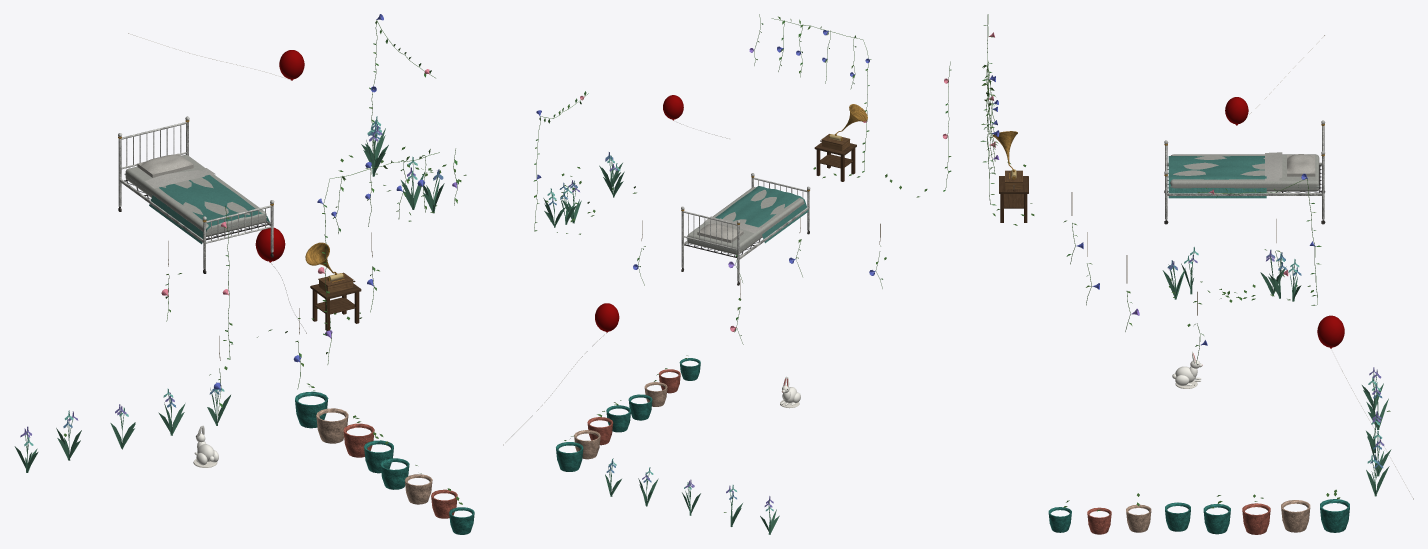
File: dream-petals.glb
The picture shows the model from 3 angles, left to right: view 1: azimuth 30°, elevation 25°; view 2: azimuth 150°, elevation 25°; view 3: azimuth 270°, elevation 25°; orthographic projection. The views are drawn at different scales.
Parts seen in each view (by area): view 1: UD_Dream_HospitalBed, UD_Dream_Flowers_ShopFloor, UD_Dream_Phonograph, UD_Dream_Flowers_Tokonoma, UD_Dream_Flowers_Window, UD_Dream_Balloon_Stair, UD_Dream_Balloon_UpperCeiling, UD_Dream_Flowers_ShopHanging, UD_Dream_RabbitStatue; view 2: UD_Dream_HospitalBed, UD_Dream_Flowers_ShopFloor, UD_Dream_Flowers_Tokonoma, UD_Dream_Phonograph, UD_Dream_Flowers_Window, UD_Dream_Balloon_Stair; view 3: UD_Dream_HospitalBed, UD_Dream_Flowers_ShopFloor, UD_Dream_Flowers_Tokonoma, UD_Dream_Phonograph, UD_Dream_Flowers_Window, UD_Dream_Balloon_Stair, UD_Dream_Flowers_ShopHanging, UD_Dream_RabbitStatue, UD_Dream_Balloon_UpperCeiling.
Part boxes in pixels (x1,y1,x2,y2): UD_Dream_HospitalBed: (118, 116, 274, 273); UD_Dream_Flowers_ShopFloor: (14, 382, 474, 534); UD_Dream_Phonograph: (305, 242, 361, 330); UD_Dream_Flowers_Tokonoma: (338, 14, 466, 221); UD_Dream_Flowers_Window: (221, 148, 458, 359); UD_Dream_Balloon_Stair: (255, 227, 306, 333); UD_Dream_Balloon_UpperCeiling: (128, 33, 304, 80); UD_Dream_Flowers_ShopHanging: (161, 232, 379, 415); UD_Dream_RabbitStatue: (193, 425, 218, 467); UD_Dream_HospitalBed: (681, 173, 810, 285); UD_Dream_Flowers_ShopFloor: (556, 355, 779, 534); UD_Dream_Flowers_Tokonoma: (533, 91, 636, 234); UD_Dream_Phonograph: (814, 104, 867, 181); UD_Dream_Flowers_Window: (749, 14, 951, 197); UD_Dream_Balloon_Stair: (503, 303, 619, 445); UD_Dream_HospitalBed: (1164, 120, 1325, 224); UD_Dream_Flowers_ShopFloor: (1048, 367, 1391, 534); UD_Dream_Flowers_Tokonoma: (1162, 173, 1321, 305); UD_Dream_Phonograph: (993, 131, 1028, 222); UD_Dream_Flowers_Window: (980, 14, 1034, 225); UD_Dream_Balloon_Stair: (1317, 315, 1413, 499); UD_Dream_Flowers_ShopHanging: (1063, 192, 1288, 363); UD_Dream_RabbitStatue: (1172, 351, 1202, 388); UD_Dream_Balloon_UpperCeiling: (1225, 35, 1324, 125).
Bounding box in the file's own units: 4.86 × 5.75 × 5.53.
17 materials, 9 textured.
